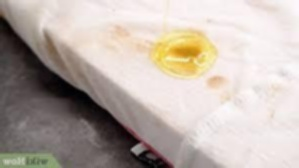oil: (146, 35, 218, 77), (102, 31, 157, 50), (202, 67, 231, 93), (220, 90, 246, 105)
